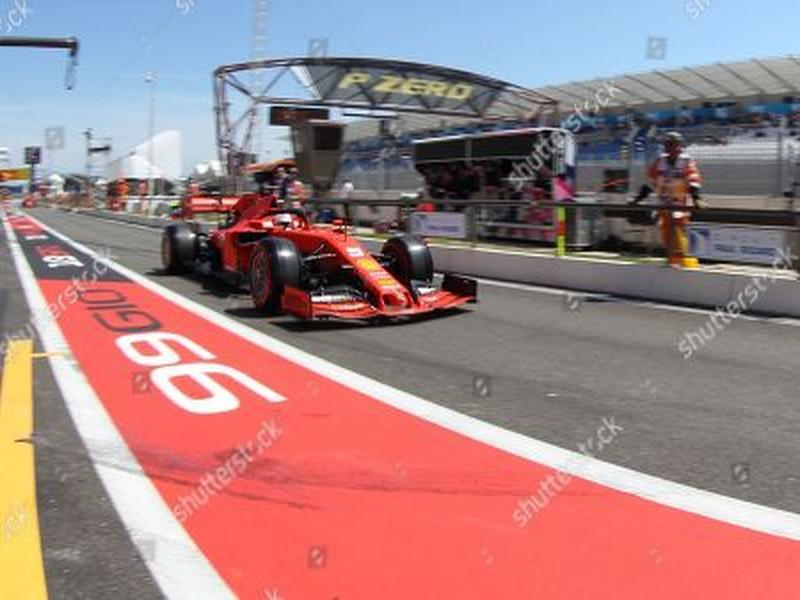f1: (142, 166, 454, 328)
